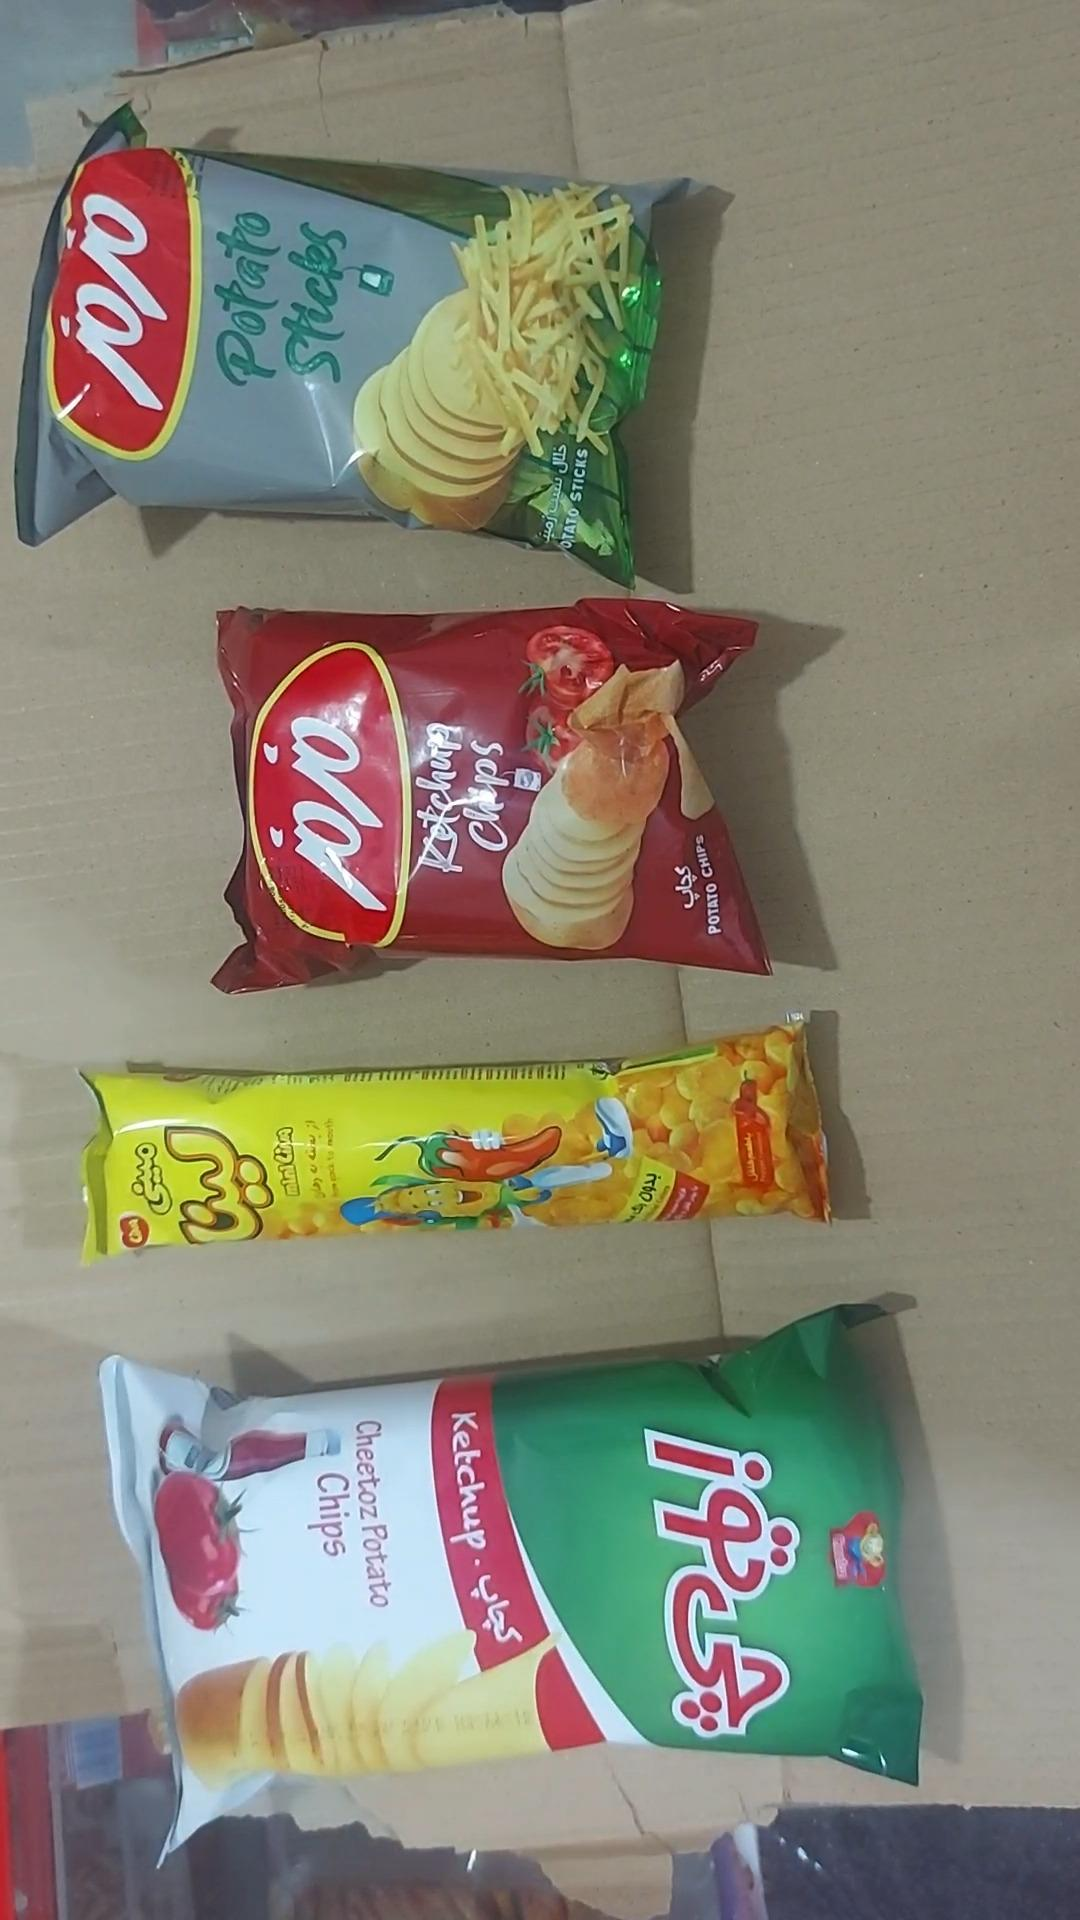Cheetoz ketchup chips: (99, 1303, 924, 1866)
Maz Maz ketchup chips: (211, 595, 773, 994)
Maz Maz potato sticks: (15, 105, 694, 589)
Mini Lina: (79, 1026, 832, 1269)
